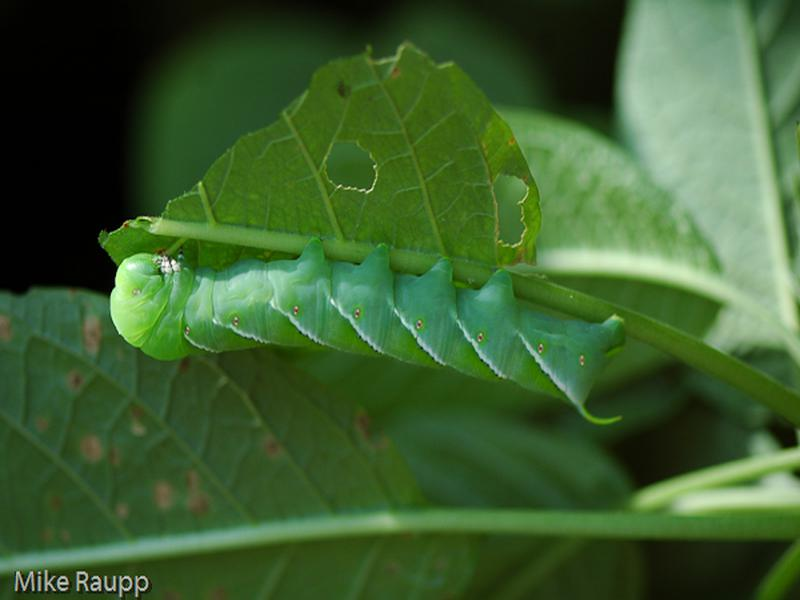Rice_horned_caterpillar: (86, 241, 651, 440)
